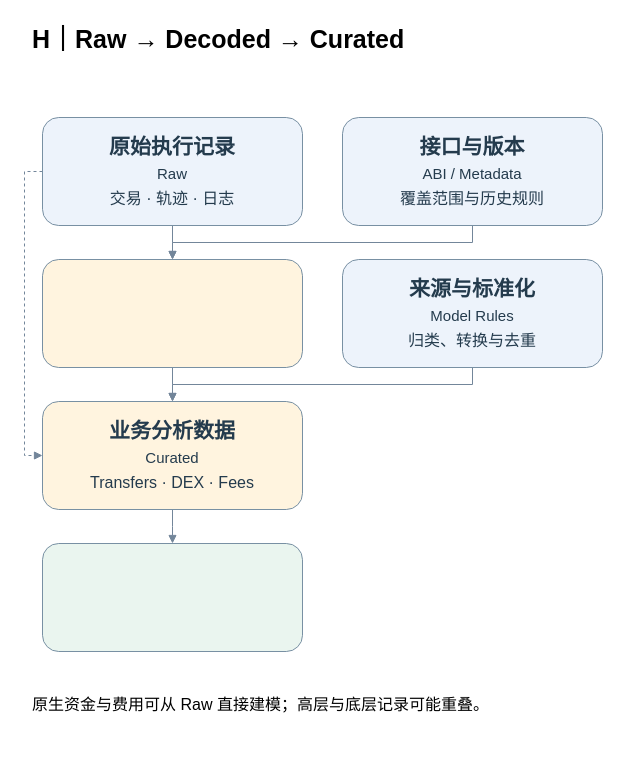
Some shapes in this 632 by 775 pixel diagram are drawn without their labels. Here are the shapes that lost their labels. From the top down, the centre of each, then its label:
[172,313]: 可读参数 Decoded 事件与调用分别解码
[172,597]: 回查证据 Source Traceability Hash · Index · Path
